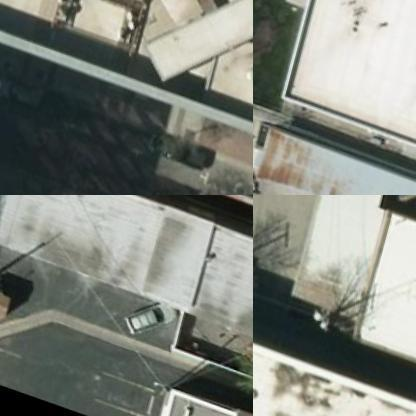car: (122, 282, 181, 340), (150, 119, 212, 168), (0, 63, 55, 114)
